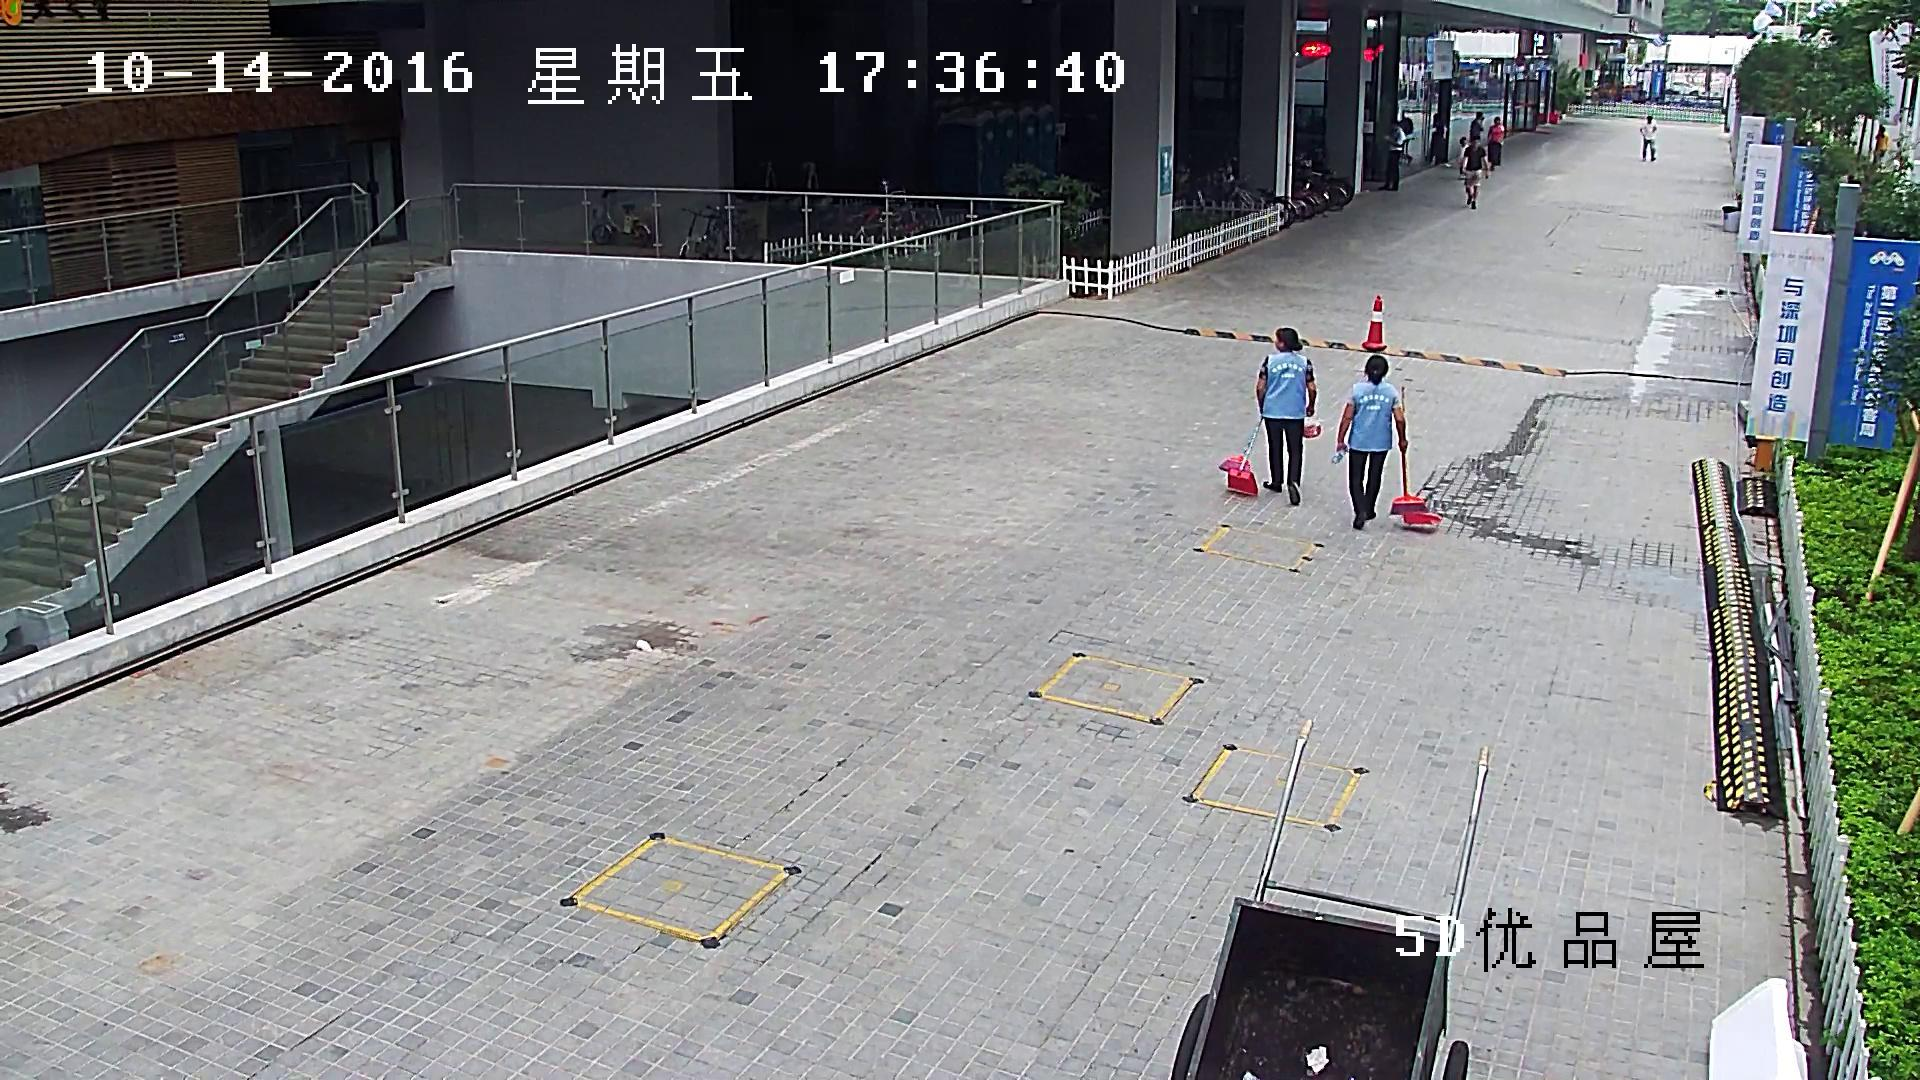person: (1329, 352, 1442, 528), (1219, 327, 1321, 506), (1333, 354, 1406, 528), (1256, 327, 1317, 505), (1460, 136, 1488, 208), (1379, 121, 1405, 190), (1487, 116, 1503, 171), (1640, 116, 1657, 162), (1875, 127, 1888, 166), (1441, 121, 1452, 167), (1469, 111, 1484, 144), (1458, 136, 1468, 179)
